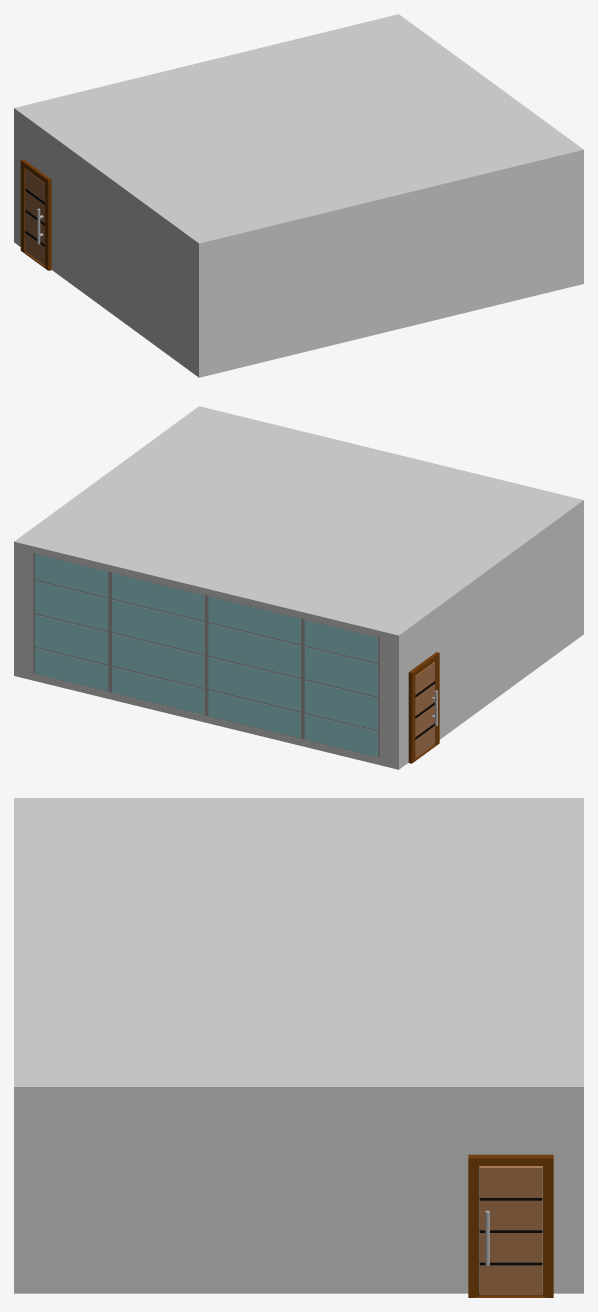
Rendered from kantor.fbx.
3 renders of one model, top to bottom at view 1: azimuth 30°, elevation 25°; view 2: azimuth 150°, elevation 25°; view 3: azimuth 270°, elevation 25°, orthographic. The views are drawn at different scales.
Visible parts, largest first — view 1: kantor, Cube.002; view 2: kantor, Cube.002; view 3: kantor, Cube.003.
Boxes of the visible parts, <box> form: kantor: <box>14,14,583,377</box>; Cube.002: <box>20,159,51,270</box>; kantor: <box>14,406,583,769</box>; Cube.002: <box>408,652,439,763</box>; kantor: <box>14,798,583,1293</box>; Cube.003: <box>468,1154,553,1297</box>.
Bounding box in the file's own units: 1255 × 401 × 1000.
